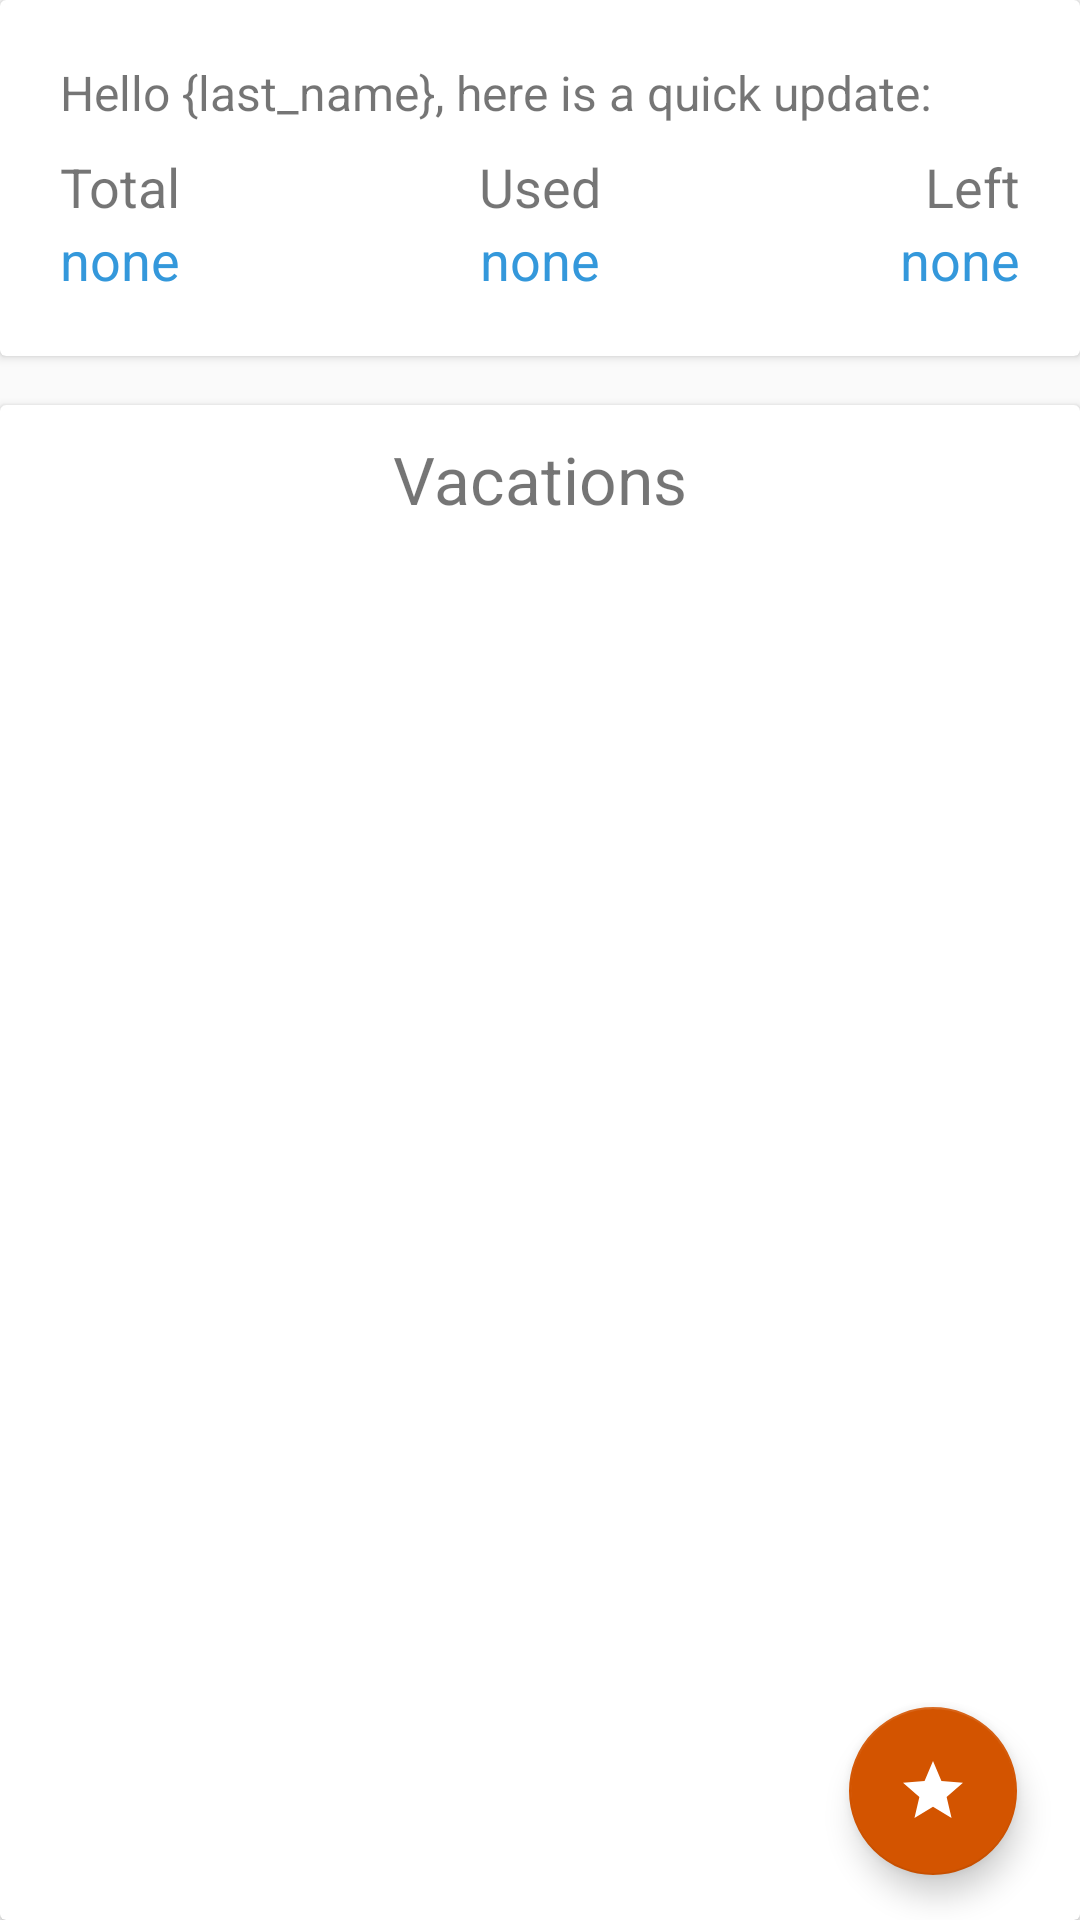

Screen size 1080px×1920px. Icon name, then its center in pixels as (x,y):
star: (933,1791)
